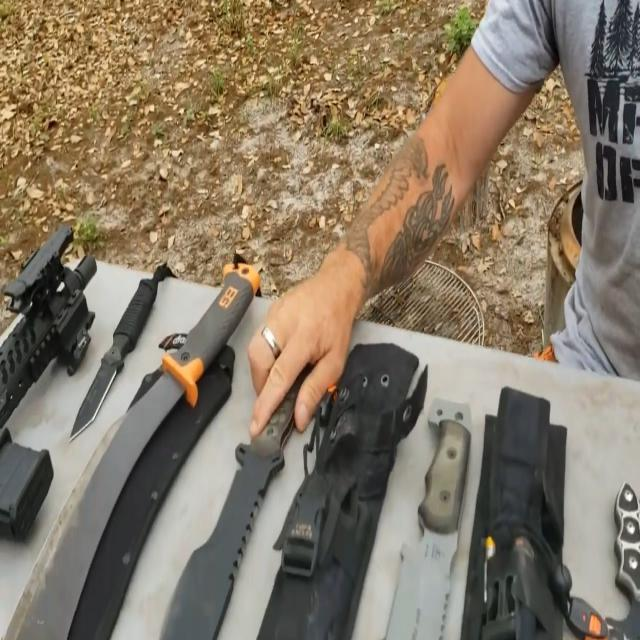knife: (0, 251, 265, 639), (144, 334, 336, 631), (364, 353, 486, 639), (58, 254, 162, 428)
long weapon: (0, 204, 117, 540)
